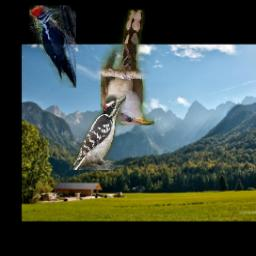Cuckoo: (102, 9, 155, 125)
Woodpecker: (72, 95, 126, 171), (29, 5, 76, 88)
